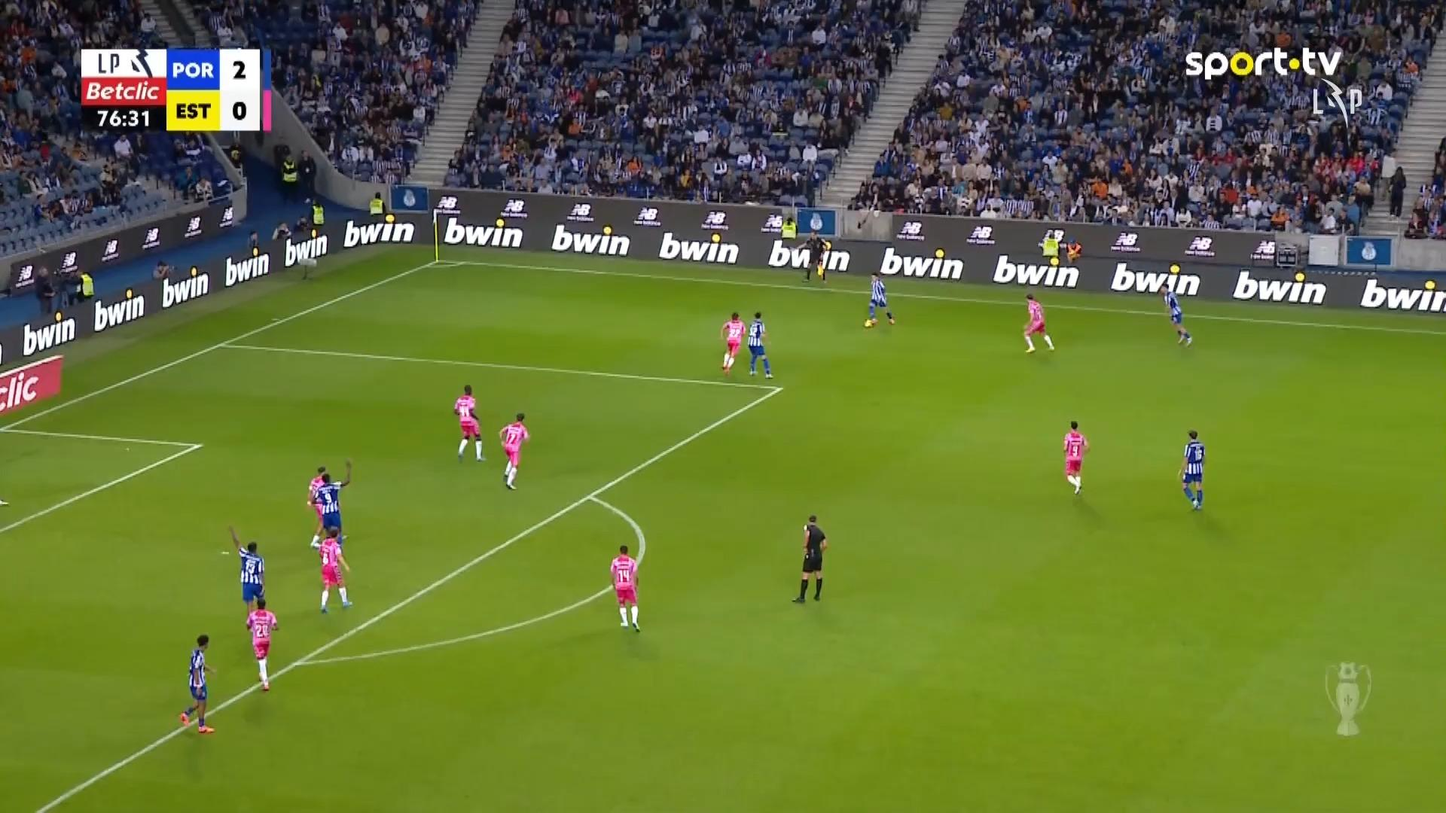ball: (1169, 263, 1180, 273), (863, 318, 874, 327)
player: (308, 459, 352, 549), (227, 524, 265, 626), (178, 633, 216, 733), (313, 525, 352, 613), (245, 596, 279, 690), (609, 544, 641, 632), (453, 384, 486, 461), (498, 412, 530, 490), (1178, 429, 1205, 510), (1159, 282, 1192, 346), (1062, 419, 1089, 495), (1022, 292, 1054, 353), (307, 465, 330, 547), (746, 310, 773, 378), (863, 271, 895, 327), (720, 311, 744, 374), (1038, 229, 1062, 266)
referee: (791, 513, 828, 602), (797, 231, 830, 282)
